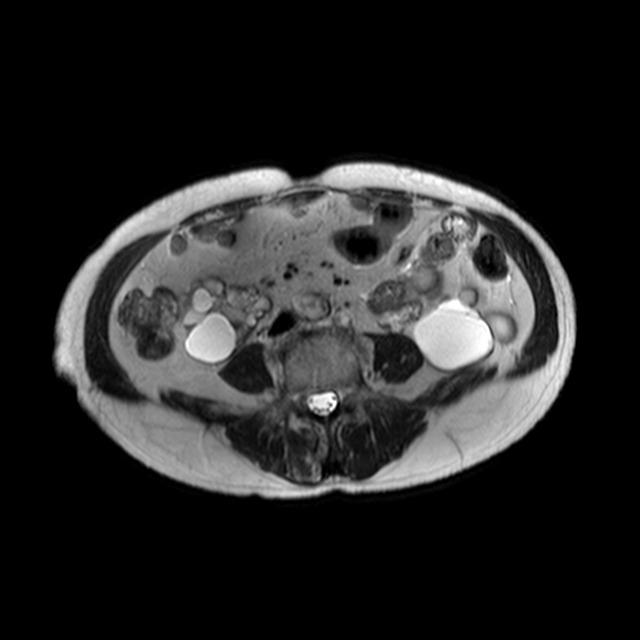sag: (173, 273, 274, 365)
sol: (406, 259, 520, 372)
